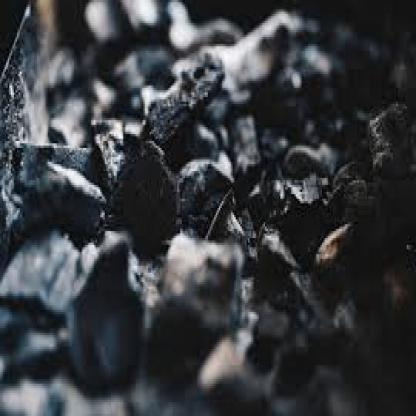Sedimentary_coal: (51, 242, 148, 384), (112, 127, 185, 238)
